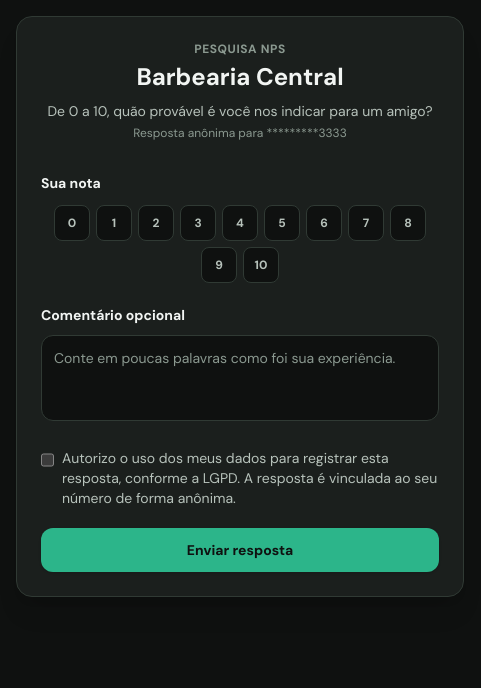
Test: PublicNpsPage › mostra erro da API e mantém o formulário ao falhar o envio
The width and height of the screenshot is (481, 688).
expect the heading "Barbearia Central" is shown: met, box [136, 61, 344, 92]
Click the button named "Nota 5": (282, 223) [264, 205, 300, 241]
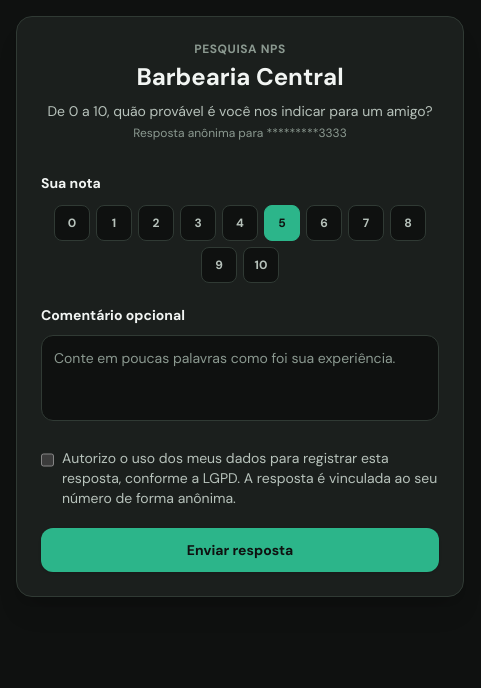
Click the checkbox: (48, 460) [41, 452, 54, 468]
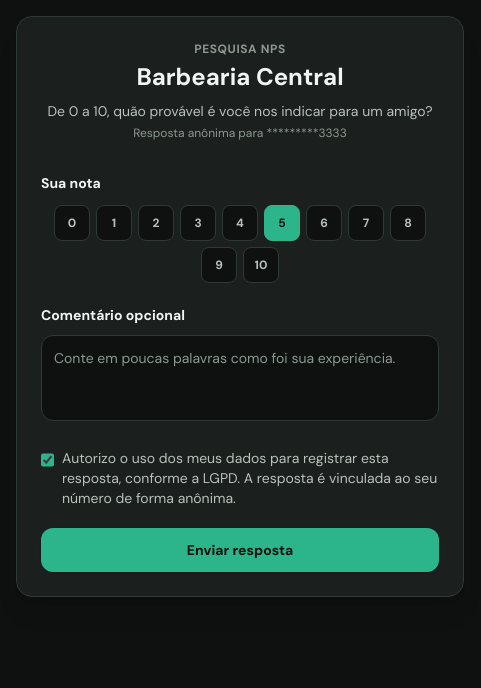
Click the button "Enviar resposta": (240, 550) [41, 528, 439, 572]
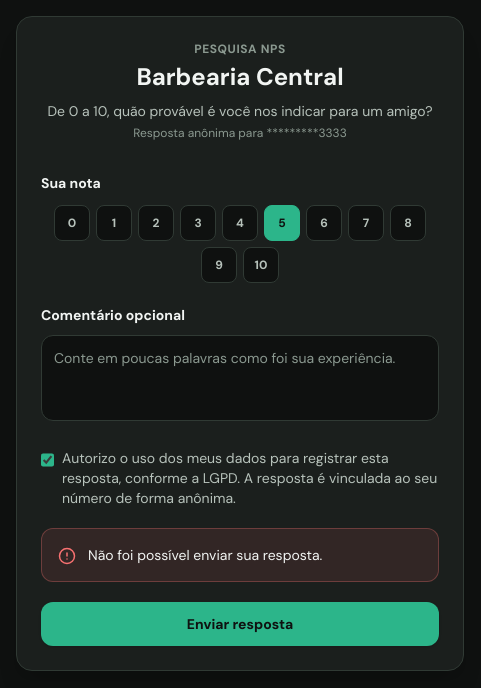
expect the button "Enviar resposta" is shown: met, box [41, 602, 439, 646]
expect the text "Não foi possível enviar sua resposta." is shown: met, box [88, 546, 322, 564]
